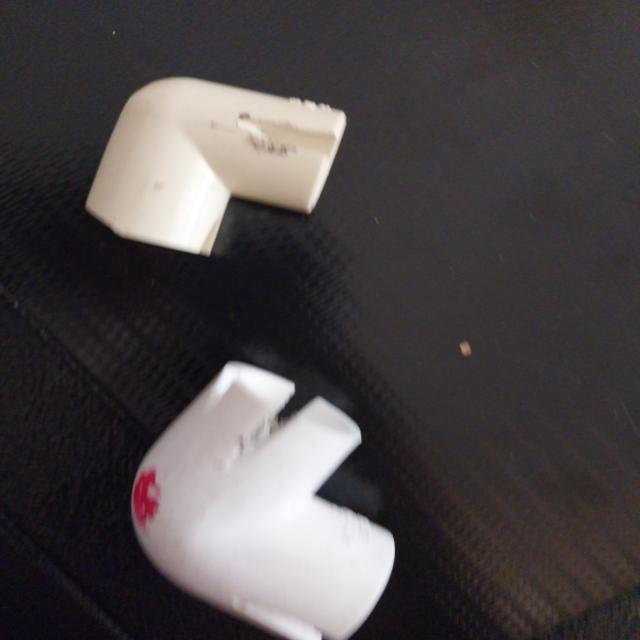Defective: (241, 384, 318, 460), (233, 105, 336, 161), (134, 472, 180, 528)
L Joint: (129, 361, 397, 640), (84, 77, 348, 258)
